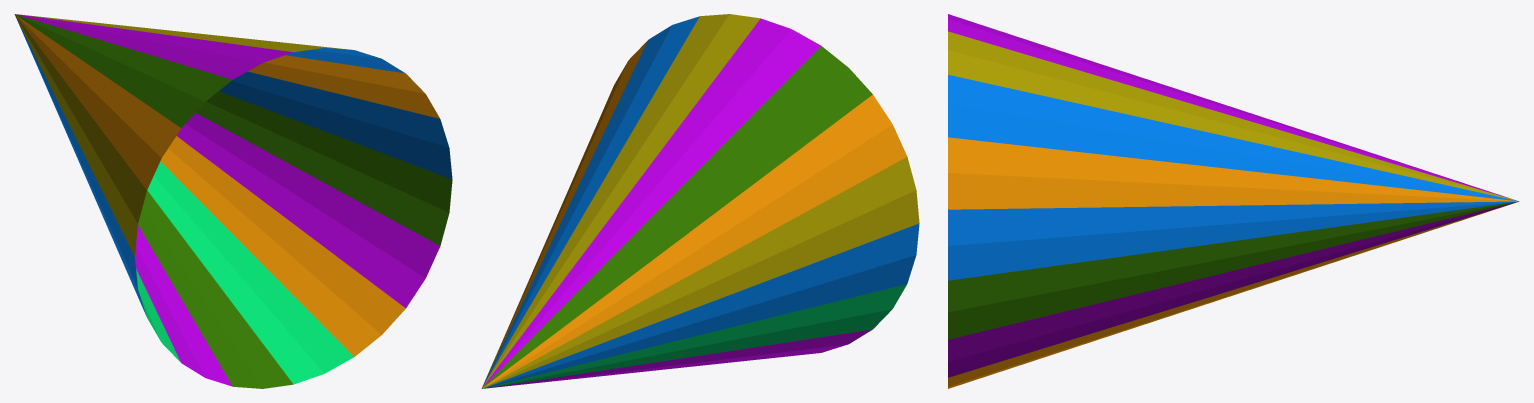
The picture shows the model from 3 angles, left to right: view 1: azimuth 30°, elevation 25°; view 2: azimuth 150°, elevation 25°; view 3: azimuth 270°, elevation 25°; orthographic projection. The views are drawn at different scales.
Visible parts, largest first — view 1: Cylinder; view 2: Cylinder; view 3: Cylinder.
Boxes of the visible parts, bbox=[...] form: Cylinder: bbox=[14, 14, 452, 388]; Cylinder: bbox=[481, 14, 919, 388]; Cylinder: bbox=[948, 14, 1519, 388].
Size of the model in its own units: 2 by 2 by 3.05.
